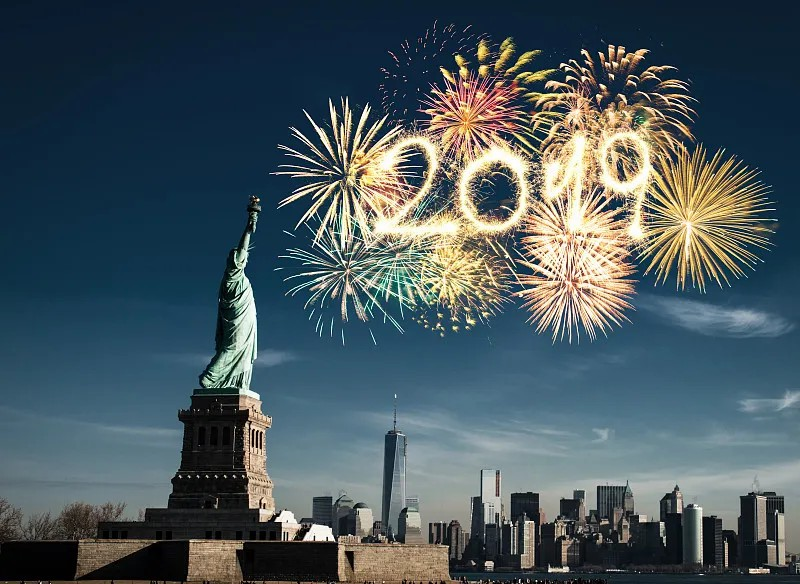SL: (166, 194, 276, 510)
